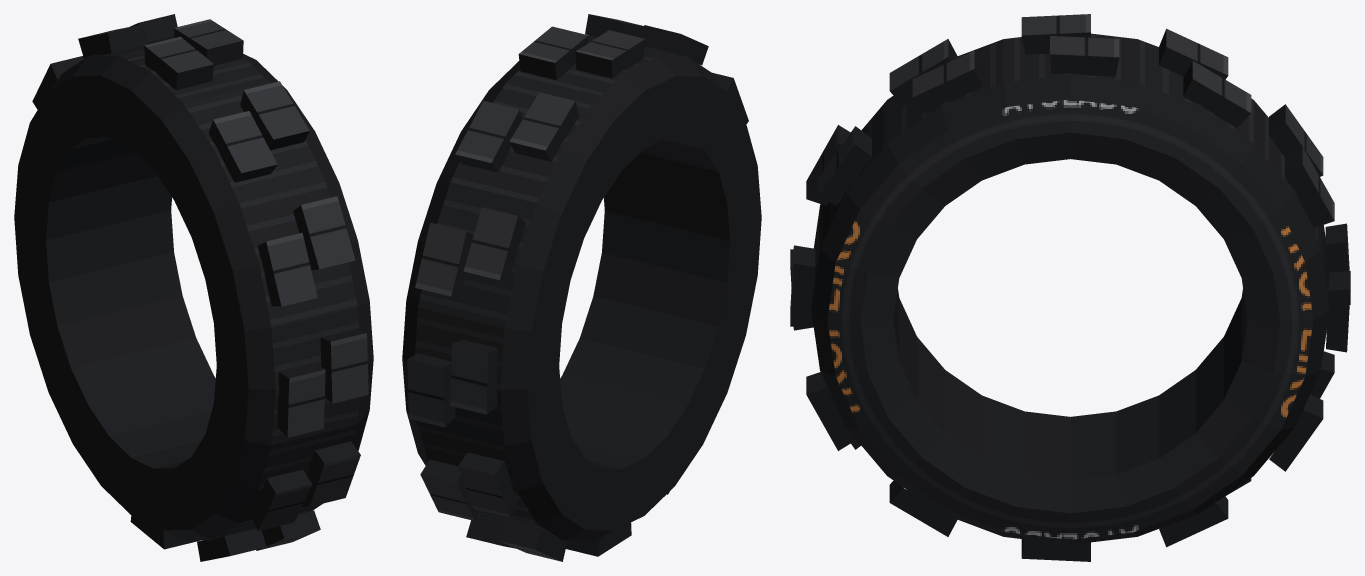
Rendered from tropeiro_atolado.glb.
The picture shows the model from 3 angles, left to right: view 1: azimuth 30°, elevation 25°; view 2: azimuth 150°, elevation 25°; view 3: azimuth 270°, elevation 25°; orthographic projection. The views are drawn at different scales.
Parts seen in each view (by area): view 1: tropeiro_atolado; view 2: tropeiro_atolado; view 3: tropeiro_atolado.
Part boxes in pixels (bbox=[...]): tropeiro_atolado: bbox=[14, 14, 373, 561]; tropeiro_atolado: bbox=[402, 14, 761, 561]; tropeiro_atolado: bbox=[790, 14, 1350, 561].
Size of the model in its own units: 0.1901 by 0.6747 by 0.6747.
1 material, 1 textured.
